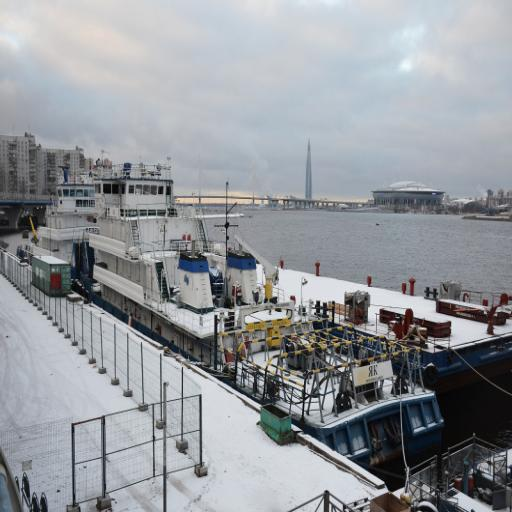tugboat: (214, 290, 452, 482)
